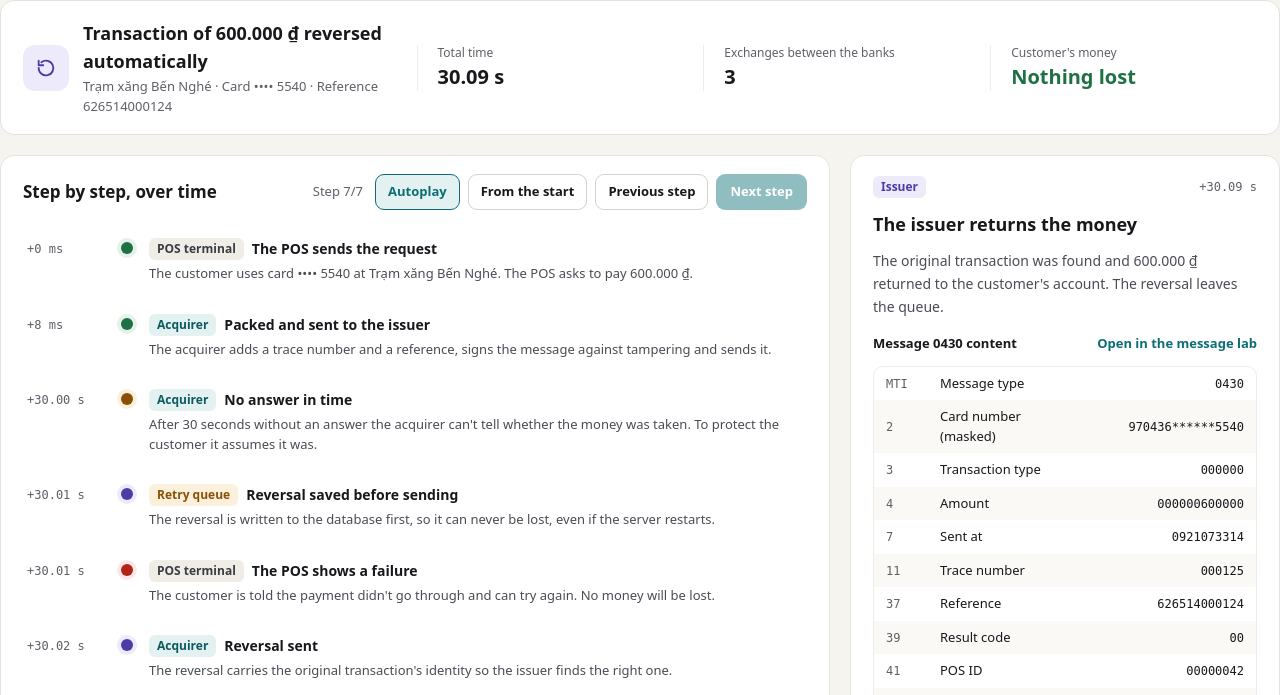
JourneyView (MCN-307: summary, timeline, detail, money as in the design) › plays the 30 s timeout as an accelerated countdown __MCN_406_AC2
Expected: the heading "The issuer returns the money" is shown, 873,212 -> 1137,236
Click the button with test id "journey-toggle-play" at (417, 192), box 375,174 -> 460,210
Wait 1900 ms
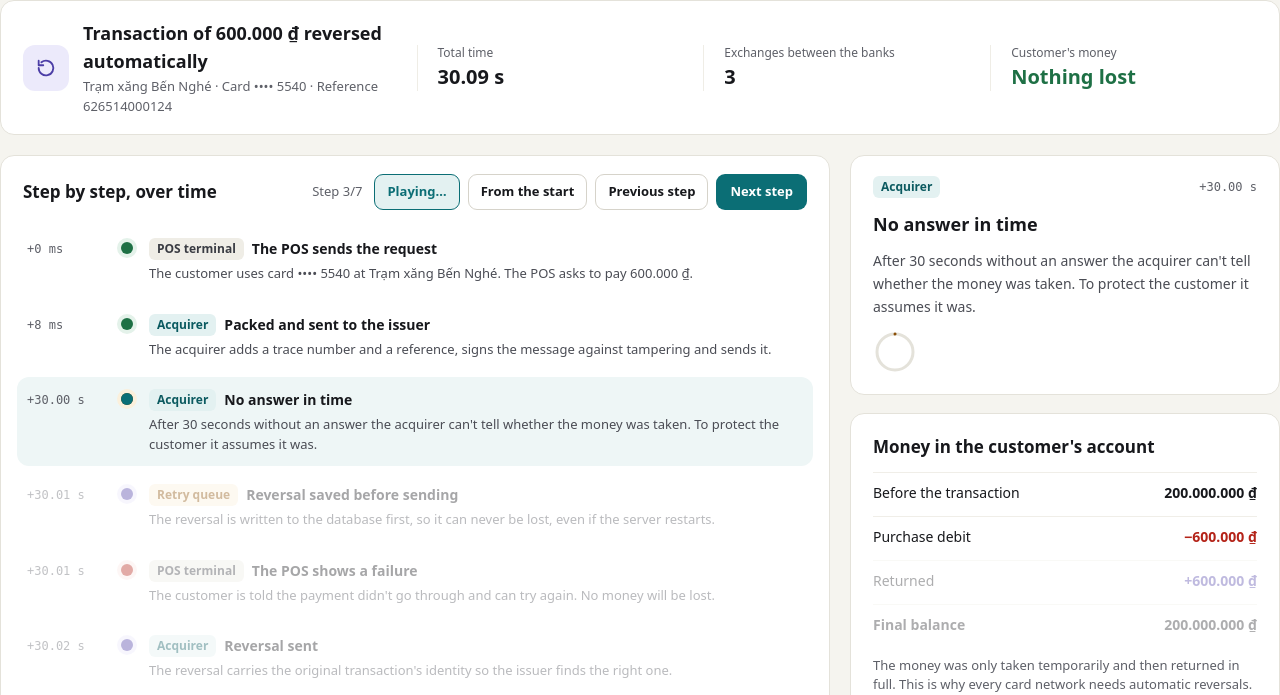
Expected: the heading "No answer in time" is shown, 873,212 -> 1038,236
